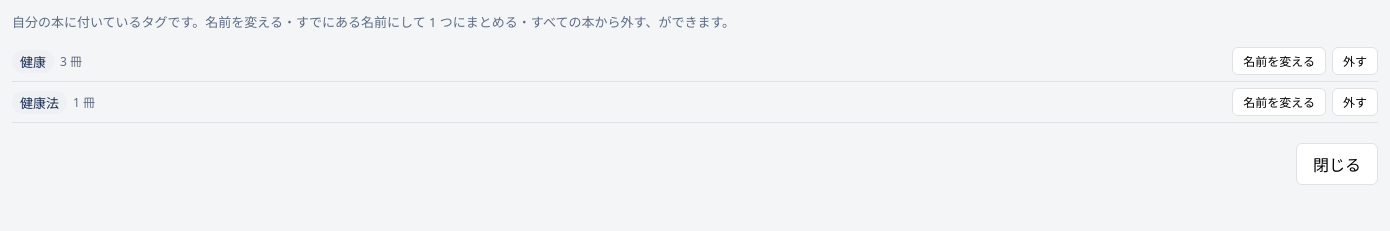
Scenario: TagsPanel（タグの管理） › 「名前を変える」で入力欄になり、変更すると付け替えて一覧を取り直し changed を伝える
Click the button "名前を変える" in the row of "健康法".
click(1279, 102)  # box [1232,88,1326,116]
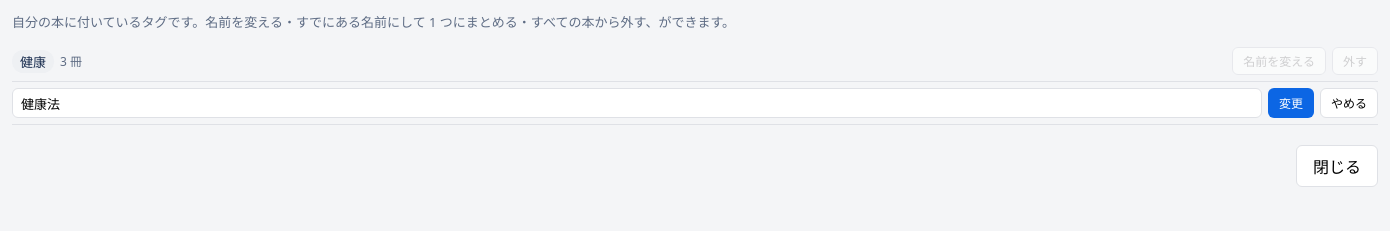
Replace the text in the field with class "rename-input" with "養生" at [637, 103], box [12,88,1262,118]
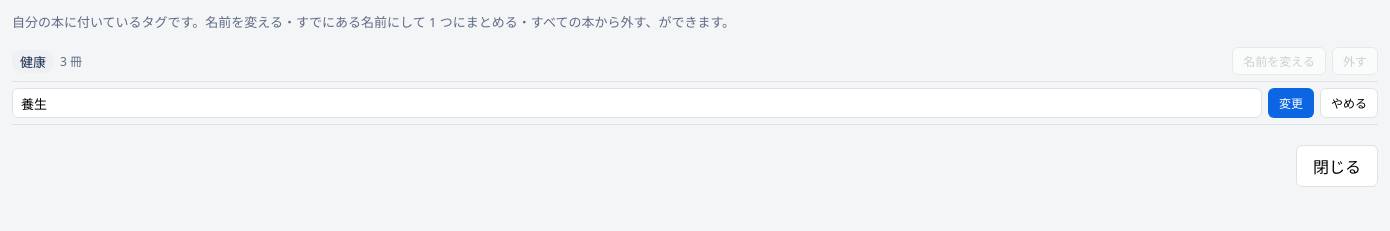
Submit the form with class "rename-form", box [12,88,1378,118]
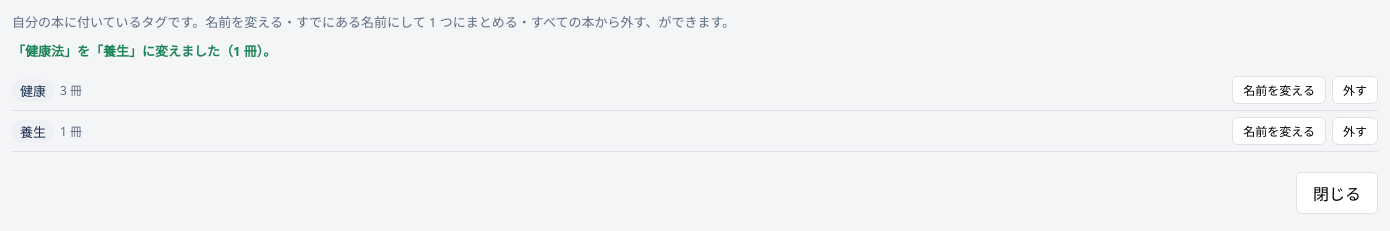
Expected: the message with class "done-message" reads "「健康法」を「養生」に変えました（1 冊）。", [12,42,276,60]
